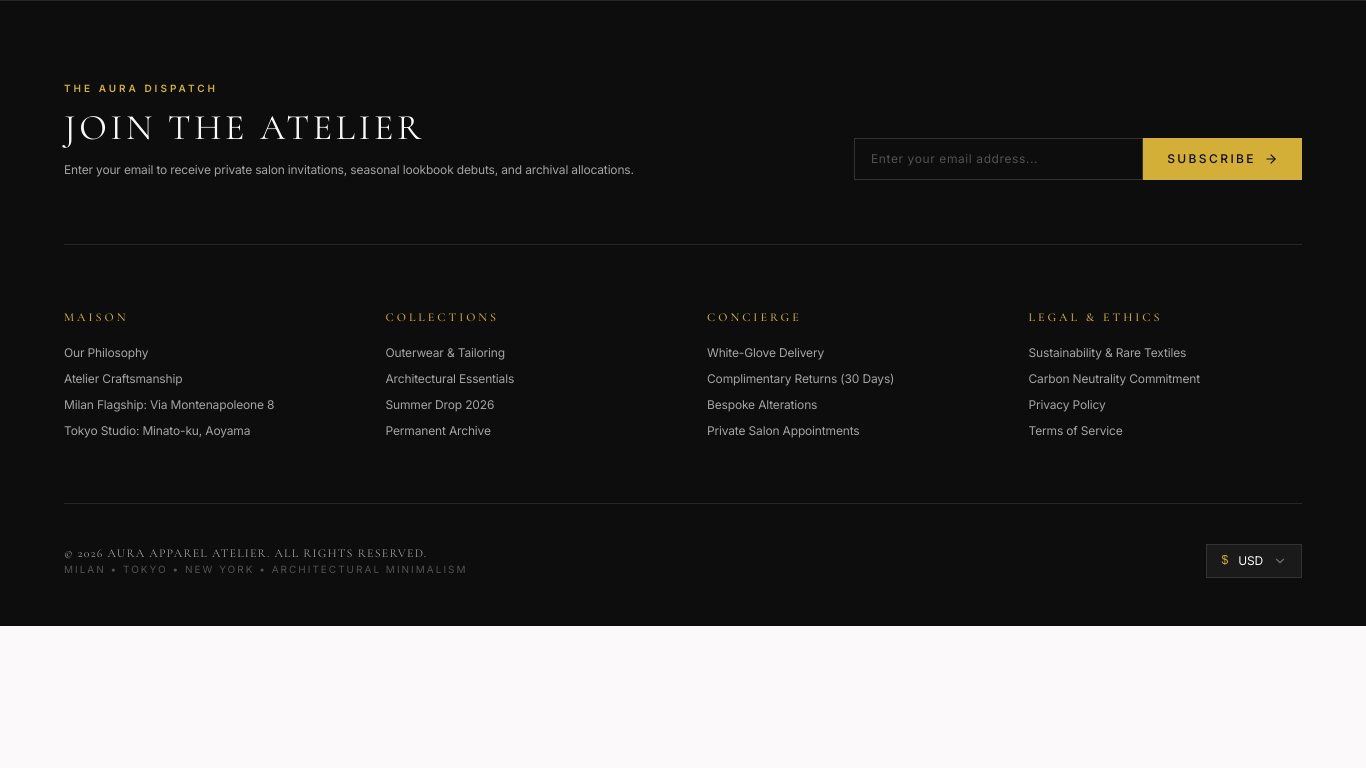
Test: Milestone 1: Aura Apparel Responsive Shell Suite › Footer Component › validates empty email and displays error alert
(page scrolled)
Step 1. Click the button with test id "newsletter-submit" → (1223, 158), box [1143, 138, 1302, 180]
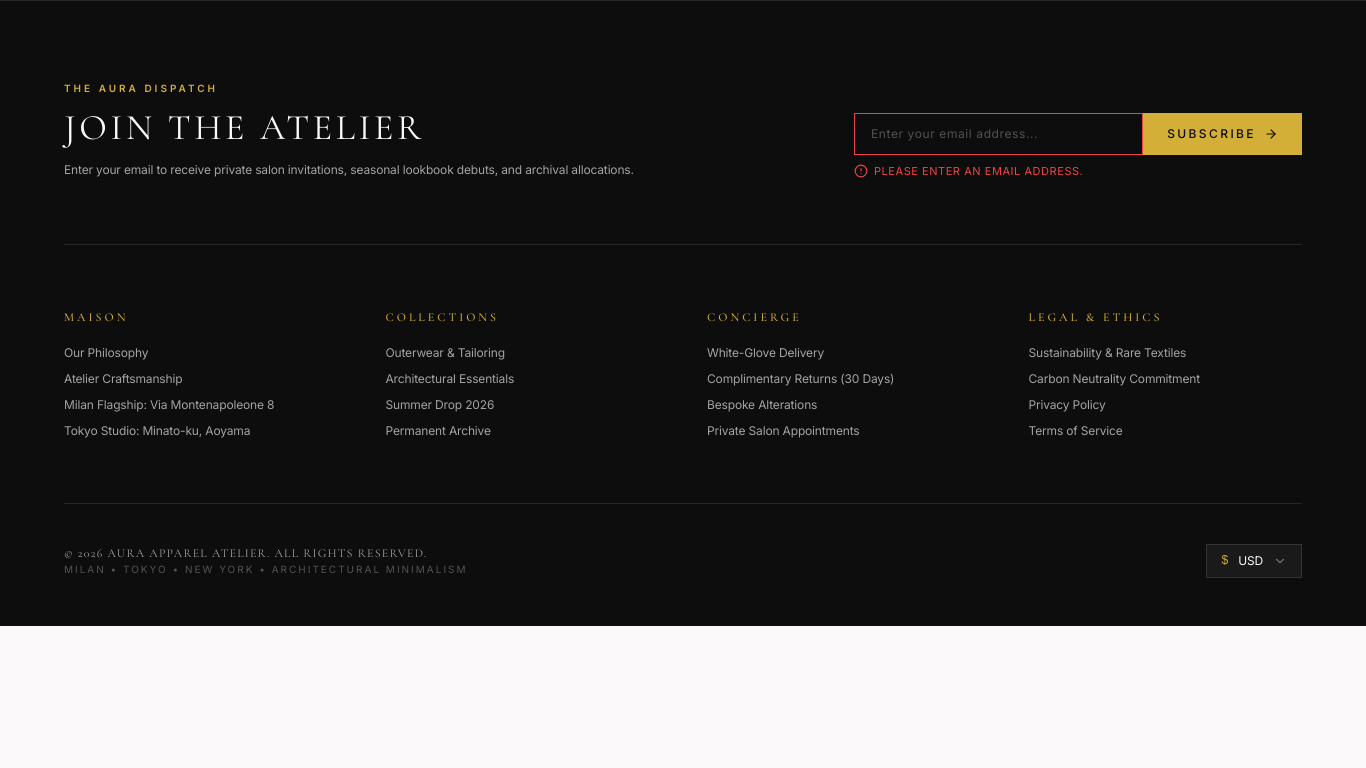
Expected: the message "Please enter an email address." is shown, [854, 164, 1083, 178]
Expected: the message with test id "newsletter-error" shows "Please enter an email address", [874, 164, 1083, 178]
